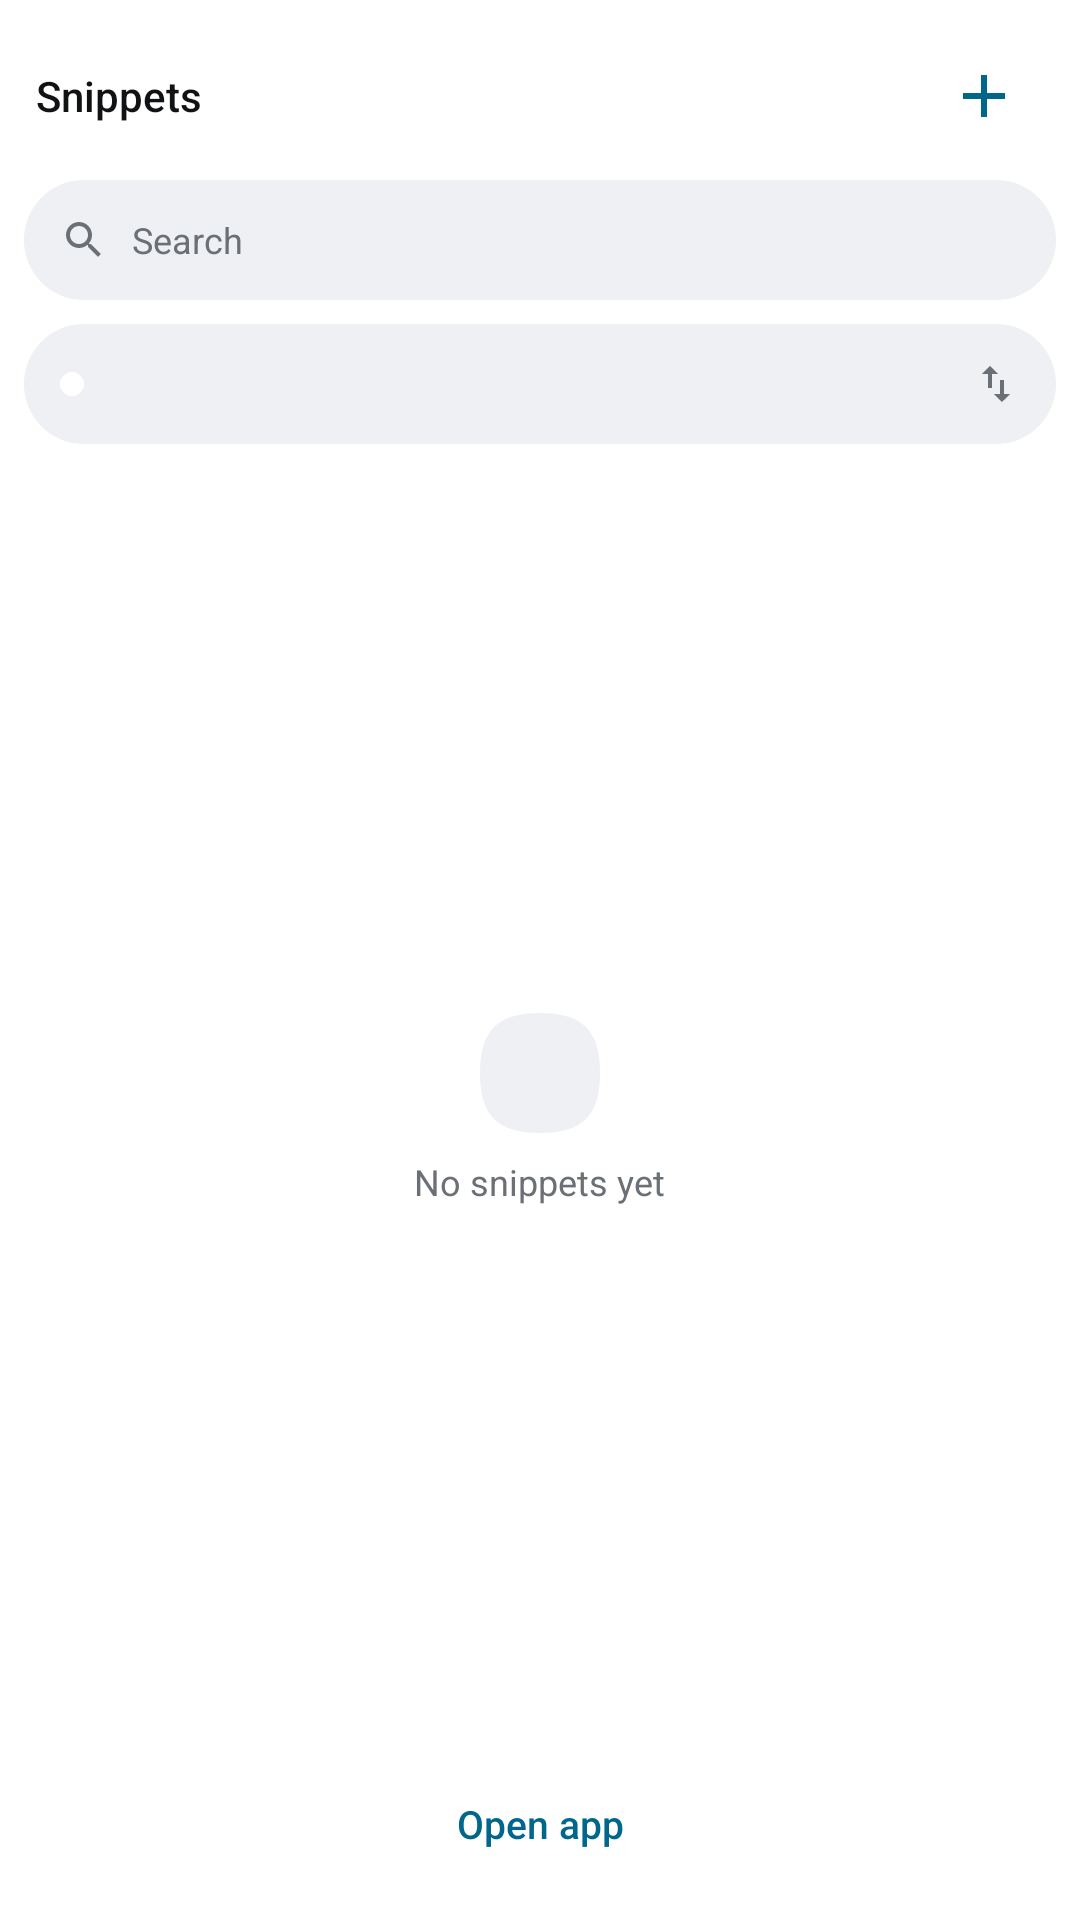

Where to tap for icons on this 1080w x 1920h app screen, as [x,y]:
Add: [984,96]
swap vert: [996,384]
